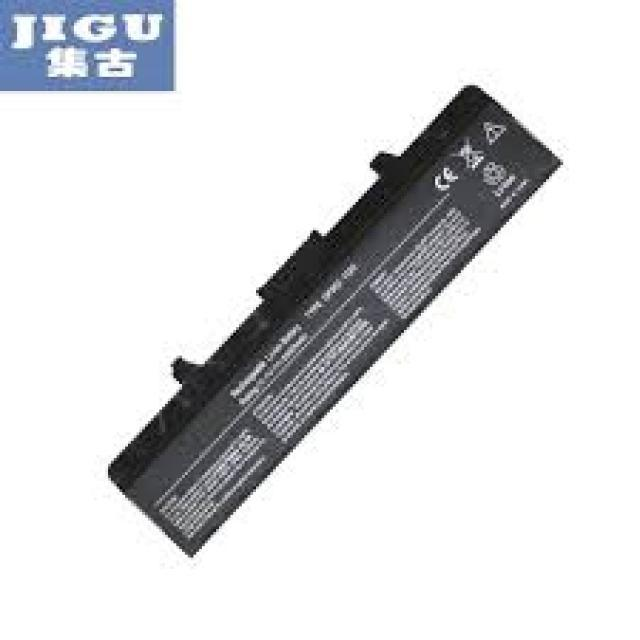battery: (106, 86, 566, 558)
